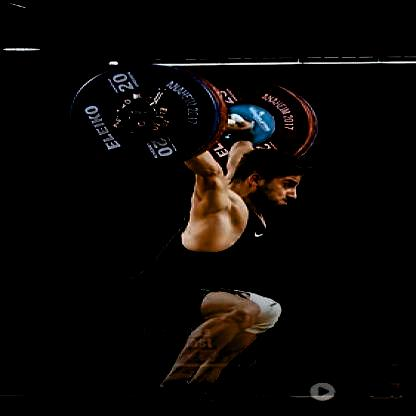Barbell: (115, 108, 140, 124)
